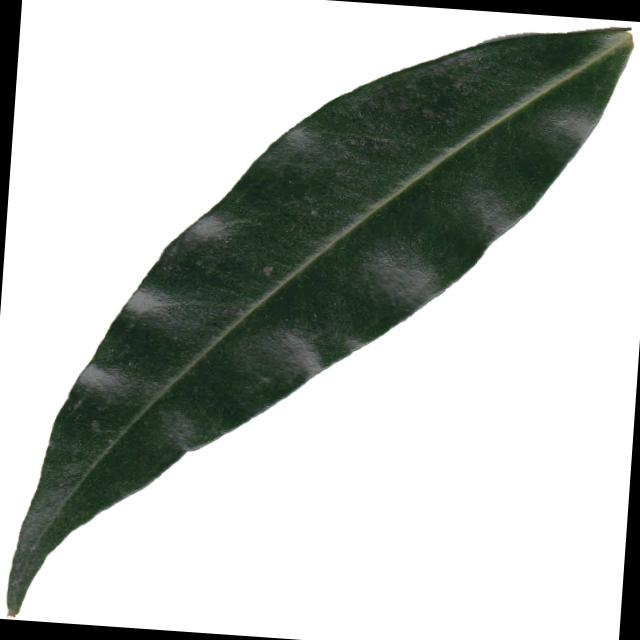Medicinal-Rose Apple: (6, 0, 640, 640)
